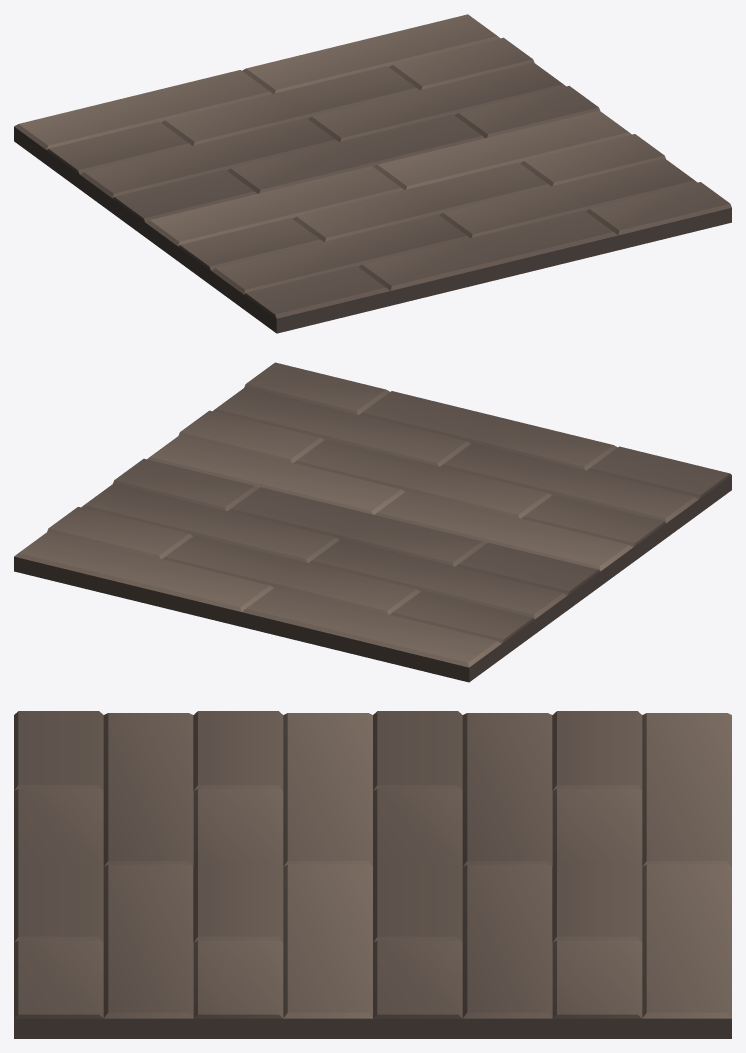
The model's file is floor_wood_large_dark.glb.
3 views of the same model, one above another, from view 1: azimuth 30°, elevation 25°; view 2: azimuth 150°, elevation 25°; view 3: azimuth 270°, elevation 25° (orthographic). The views are drawn at different scales.
Parts seen in each view (by area): view 1: floor_wood_large_dark; view 2: floor_wood_large_dark; view 3: floor_wood_large_dark.
Part boxes in pixels (x1,y1,x2,y2): floor_wood_large_dark: (14,14,731,333); floor_wood_large_dark: (14,362,731,682); floor_wood_large_dark: (14,711,731,1038).
Bounding box in the file's own units: 4 × 0.15 × 4.
1 material, 1 textured.
